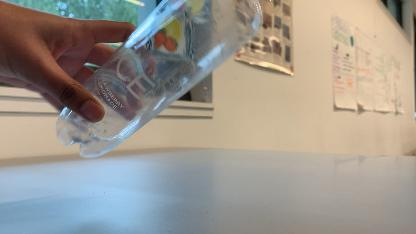Plastic Bottle: (54, 0, 280, 162)
